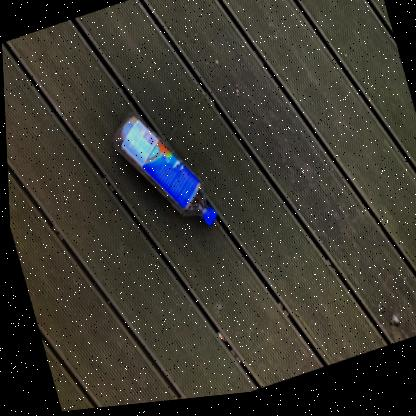Plastic: (111, 119, 214, 231)
